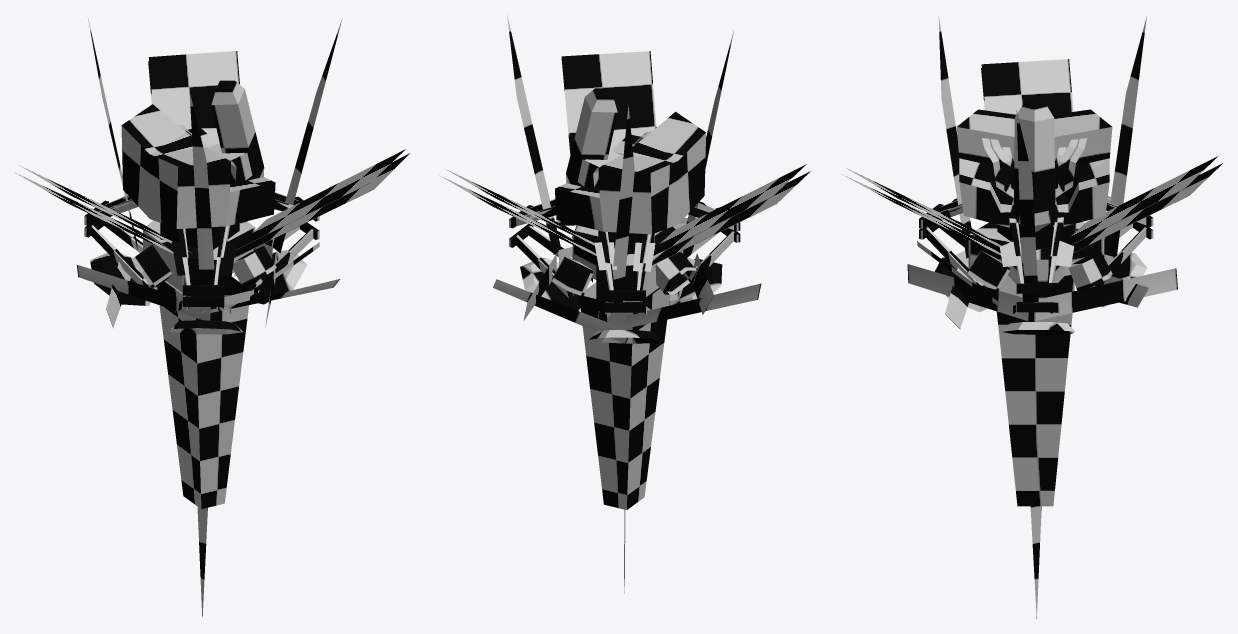
File: boosterstation.obj
3 renders of one model, left to right at view 1: azimuth 30°, elevation 25°; view 2: azimuth 150°, elevation 25°; view 3: azimuth 270°, elevation 25°, orthographic.
Parts seen in each view (by area): view 1: boostersatation_damaged; view 2: boostersatation_damaged; view 3: boostersatation_damaged.
Boxes of the visible parts, x1=… form: boostersatation_damaged: x1=16, y1=16, x2=409, y2=616; boostersatation_damaged: x1=441, y1=14, x2=810, y2=593; boostersatation_damaged: x1=842, y1=15, x2=1222, y2=618.
Size of the model in its own units: 249 by 448 by 271.
1 material, 1 textured.
